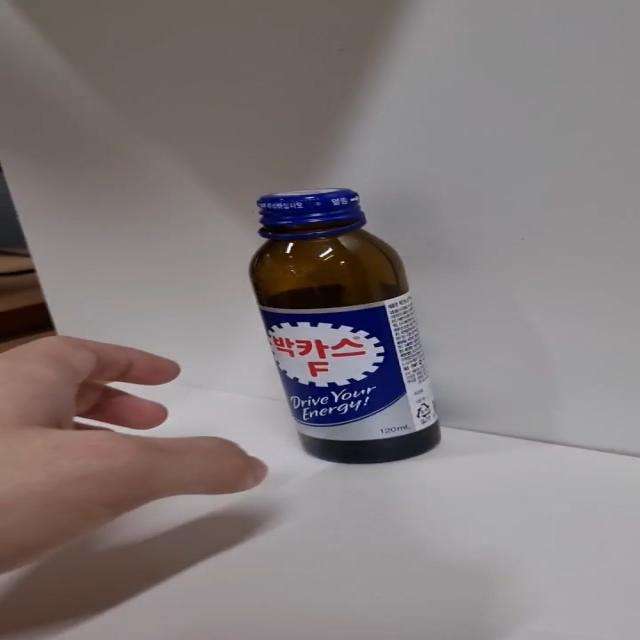Glass: (247, 190, 442, 466)
